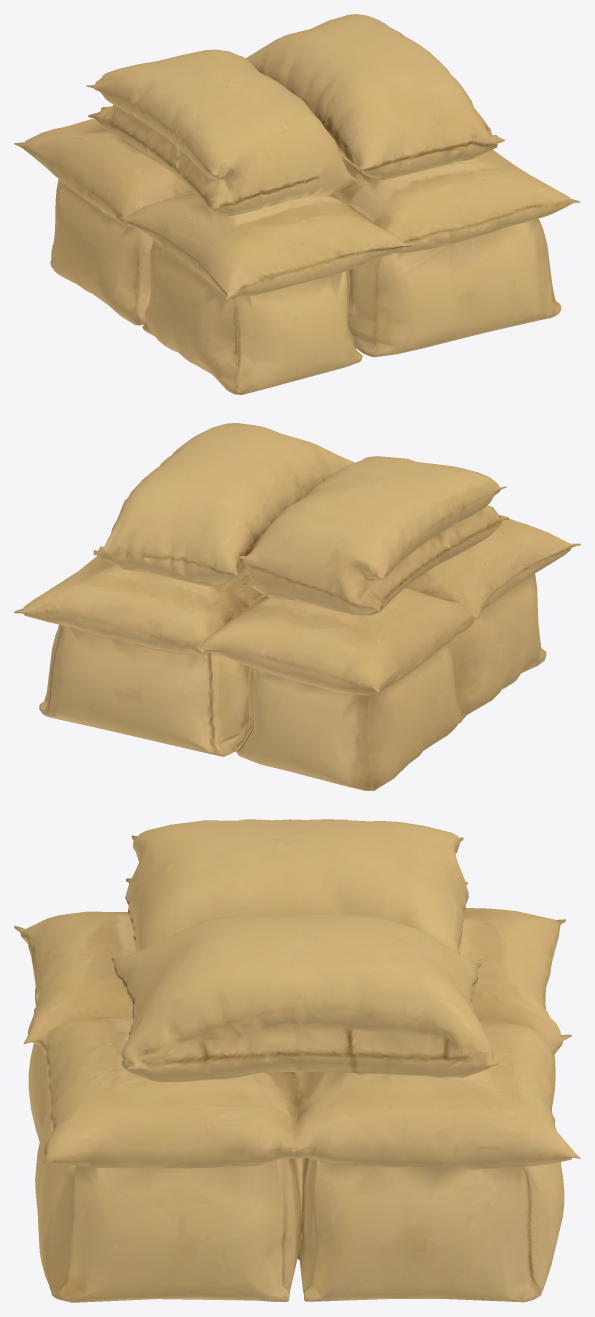
The model's file is sandbags.glb.
3 views of the same model, one above another, from view 1: azimuth 30°, elevation 25°; view 2: azimuth 150°, elevation 25°; view 3: azimuth 270°, elevation 25° (orthographic). The views are drawn at different scales.
Bounding box in the file's own units: 0.6673 × 0.4 × 0.6703.
Materials: 1 (1 with a texture image).
